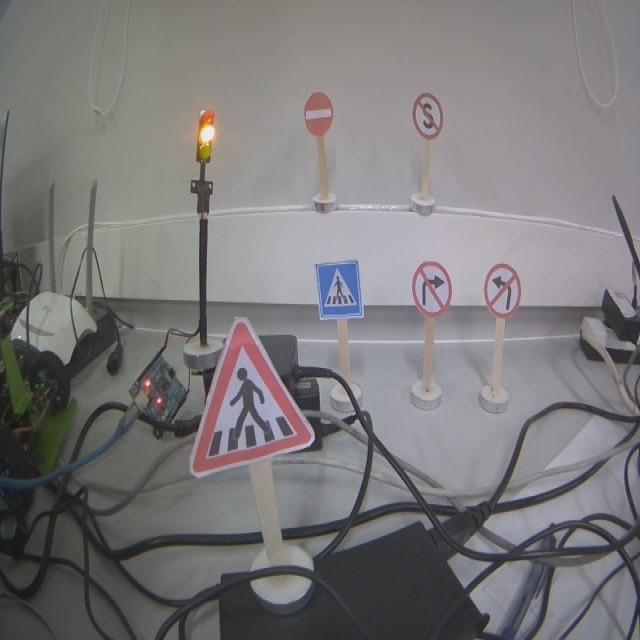Dilarang Belok Kanan: (412, 261, 452, 315)
Dilarang Belok Kiri: (484, 264, 521, 317)
Dilarang Masuk: (304, 92, 333, 136)
Lampu Kuning: (196, 108, 215, 164)
Rambu Berhenti: (412, 94, 442, 138)
Rambu Penyebrangan: (187, 317, 314, 476), (315, 259, 364, 320)
